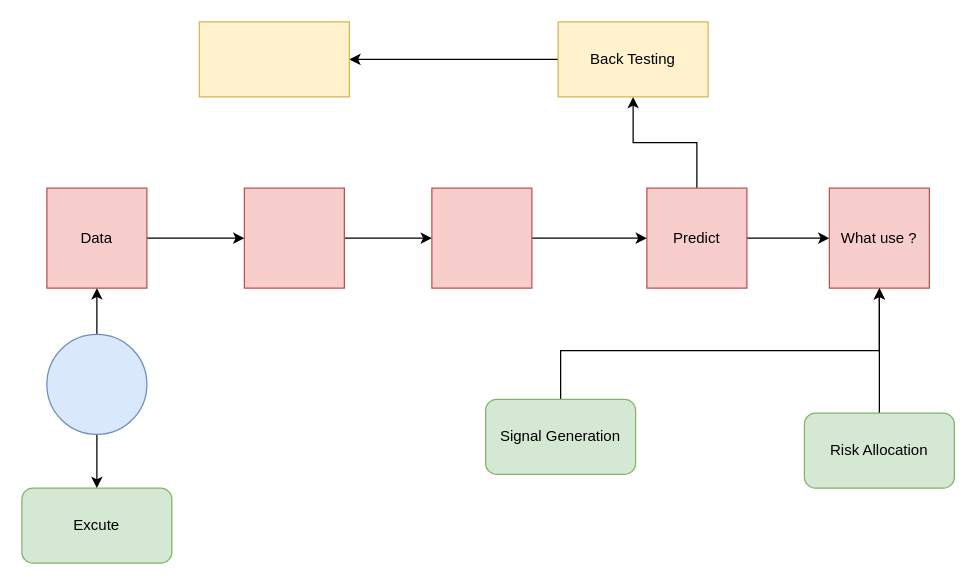
Image size: 976x585. Some labels were removed from this diagram. Here are the shapes that lost their labels. From the top down, the box of each, then its label:
(198, 21, 349, 97): Forward Testing
(243, 187, 344, 288): Process
(431, 187, 532, 288): Model
(46, 333, 147, 434): CCXT
